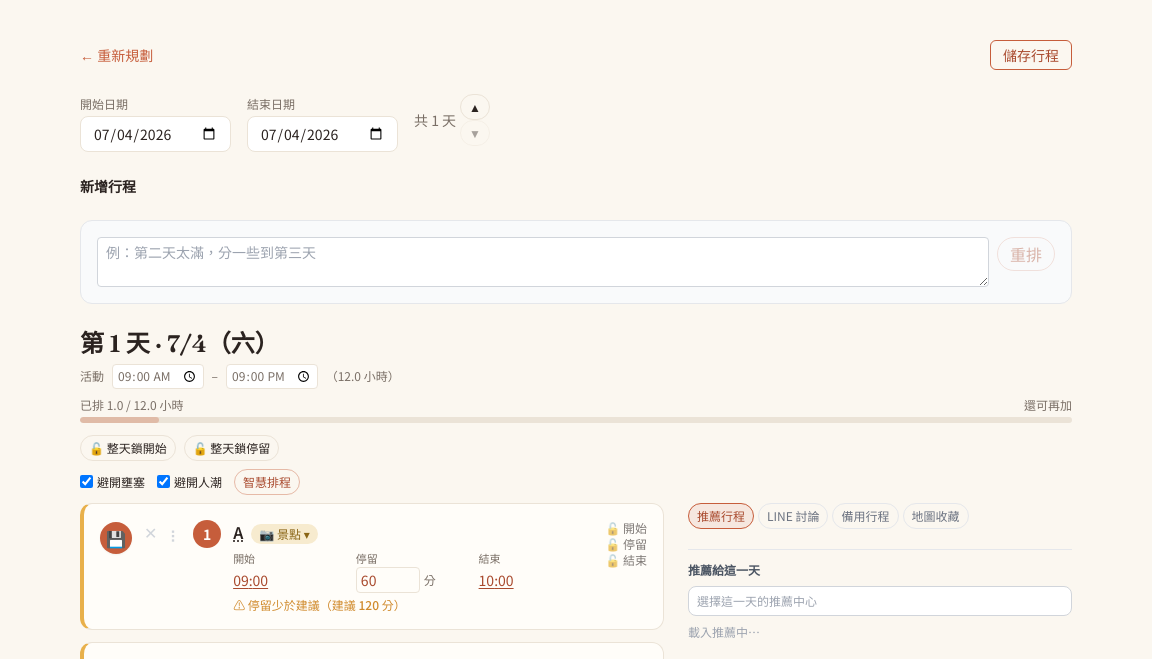
anon mode: non-auth server error shows visible 儲存失敗 feedback
Click the button "儲存行程" at (1031, 55), box [990,40,1072,70]
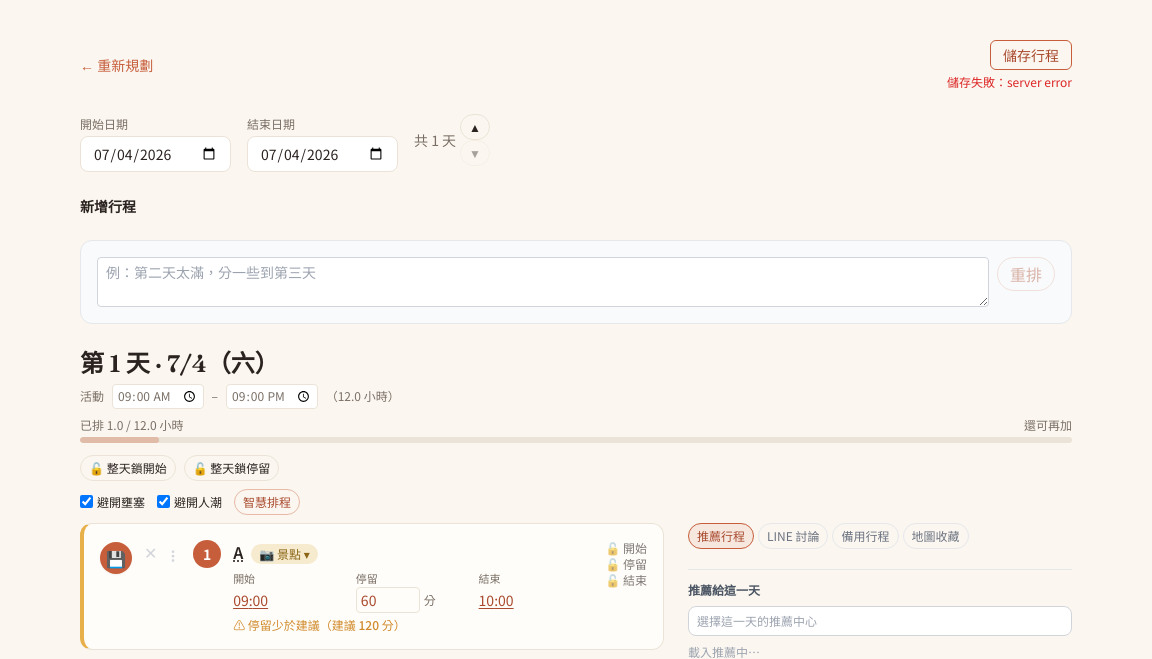
Check: the text "儲存失敗：server error" is shown, box [947,74,1072,90]
